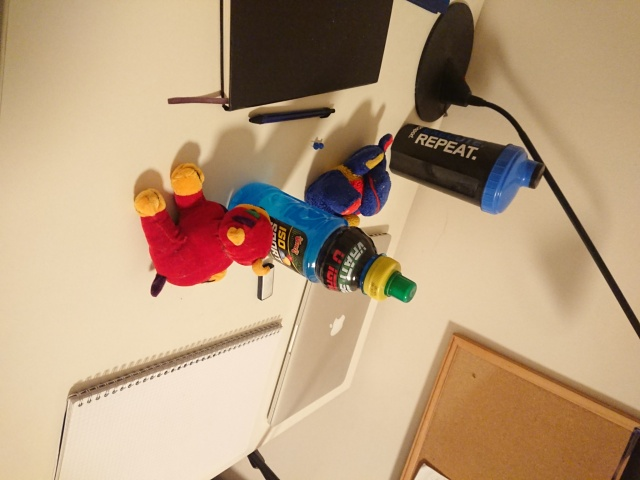Vindi Iso Sport Forest Strawberries 500mL: (224, 180, 418, 304)
